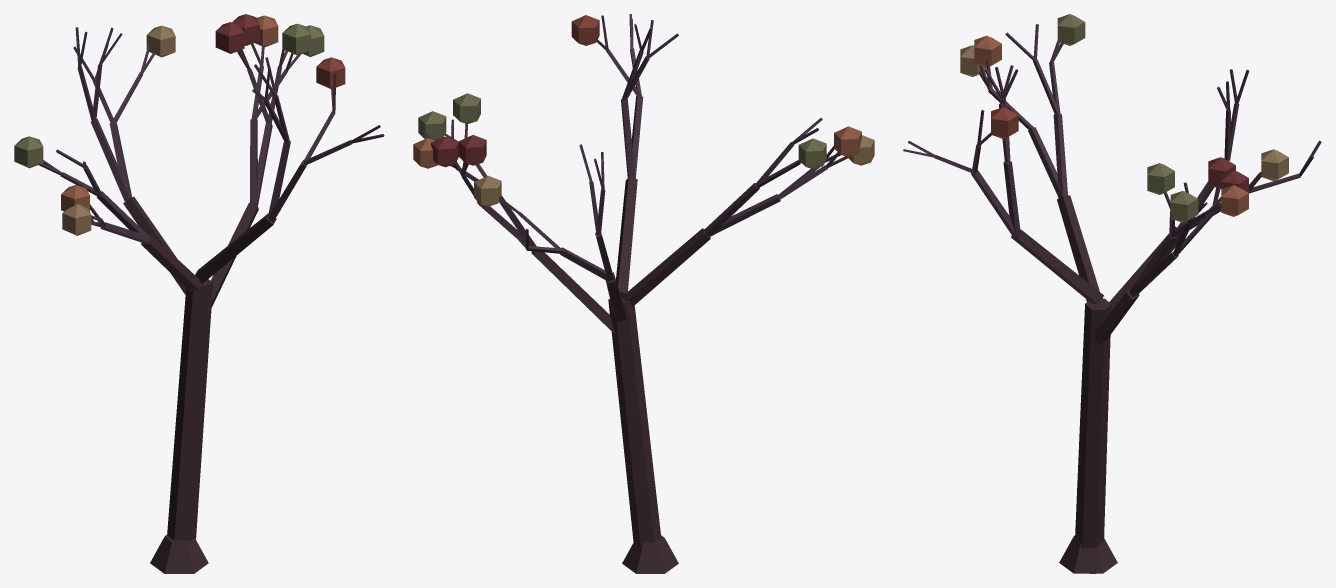
The model's file is copac_gol.glb.
3 views of the same model, side by side, from view 1: azimuth 30°, elevation 25°; view 2: azimuth 150°, elevation 25°; view 3: azimuth 270°, elevation 25° (orthographic). The views are drawn at different scales.
Parts seen in each view (by area): view 1: CopacGol; view 2: CopacGol; view 3: CopacGol.
Boxes of the visible parts, x1=… form: CopacGol: x1=14, y1=14, x2=384, y2=573; CopacGol: x1=413, y1=14, x2=874, y2=573; CopacGol: x1=903, y1=14, x2=1321, y2=573.
Size of the model in its own units: 4.27 by 5.9 by 4.27.
